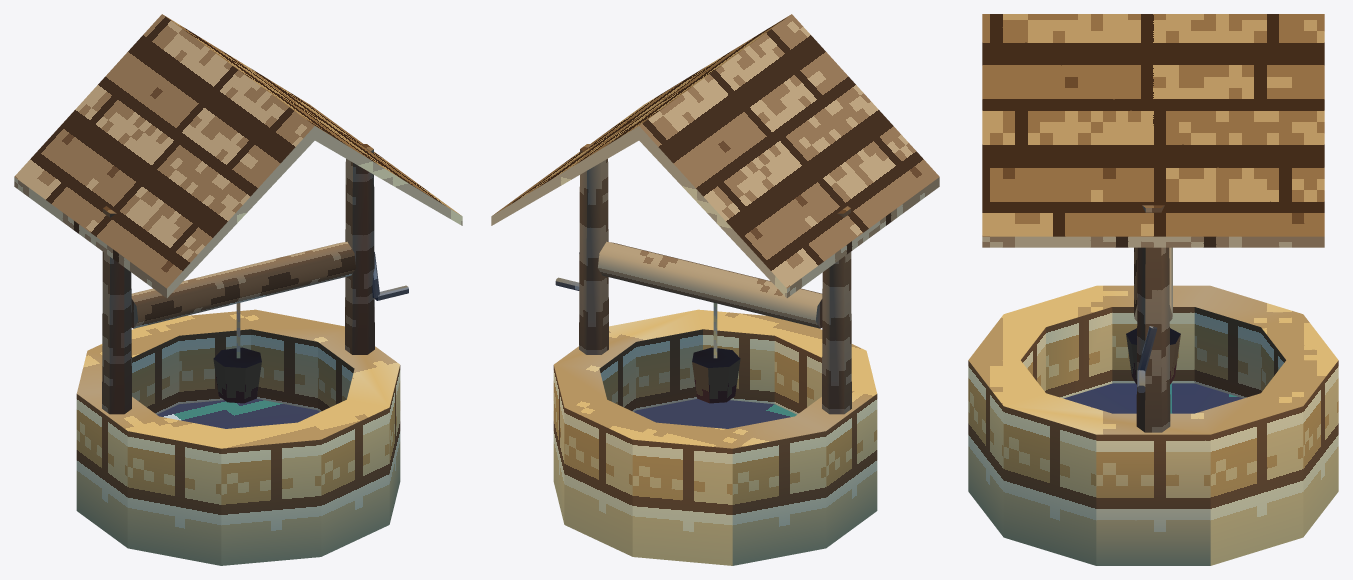
File: wprop.well.glb
3 renders of one model, left to right at view 1: azimuth 30°, elevation 25°; view 2: azimuth 150°, elevation 25°; view 3: azimuth 270°, elevation 25°, orthographic. The views are drawn at different scales.
Parts seen in each view (by area): view 1: kit_curb, kit_roof, kit_posts, kit_drum, kit_water, kit_bucket; view 2: kit_curb, kit_roof, kit_posts, kit_drum, kit_water, kit_bucket; view 3: kit_curb, kit_roof, kit_posts, kit_water, kit_bucket, kit_crank, kit_drum.
Part boxes in pixels (x1,y1,x2,y2): kit_curb: (76,309,400,565); kit_roof: (14,14,462,297); kit_posts: (102,144,374,414); kit_drum: (131,241,356,328); kit_water: (157,398,319,428); kit_bucket: (213,347,261,403); kit_curb: (553,309,877,565); kit_roof: (491,14,939,297); kit_posts: (579,144,851,414); kit_drum: (597,241,822,328); kit_water: (634,398,796,428); kit_bucket: (692,347,740,403); kit_curb: (968,285,1338,565); kit_roof: (982,14,1324,247); kit_posts: (1136,205,1170,432); kit_water: (1063,383,1243,413); kit_bucket: (1126,328,1180,384); kit_crank: (1137,326,1157,392); kit_drum: (1134,247,1172,321).
Size of the model in its own units: 2 by 2.62 by 1.84.
11 materials, 11 textured.
